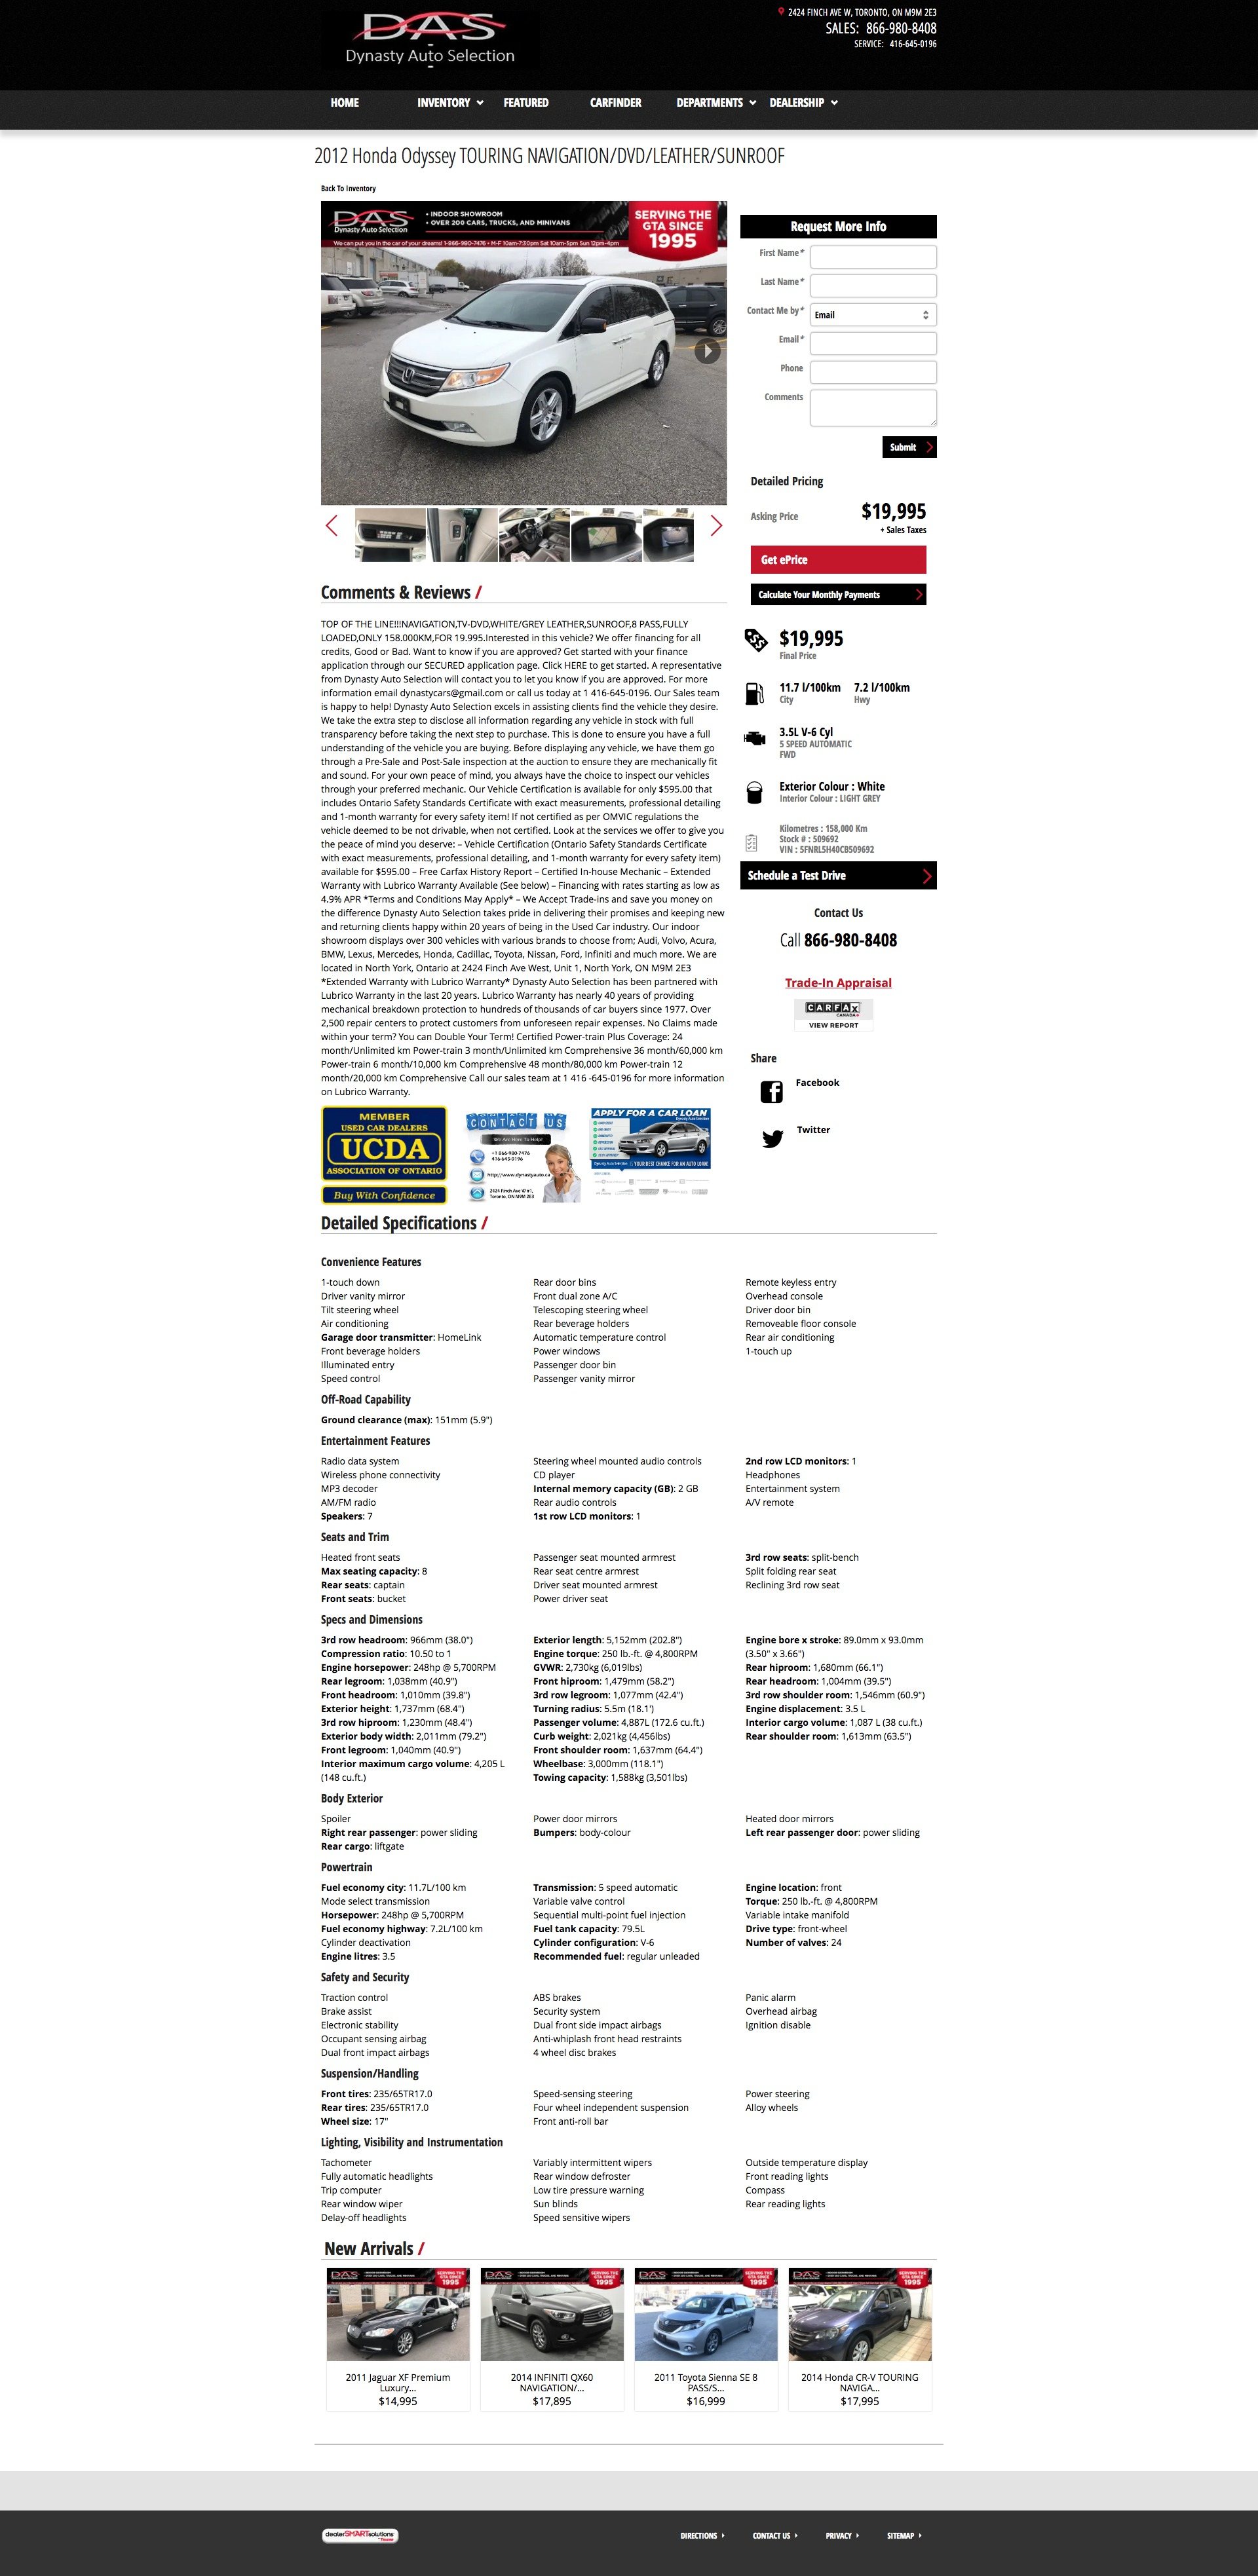car: (710, 516, 722, 537)
